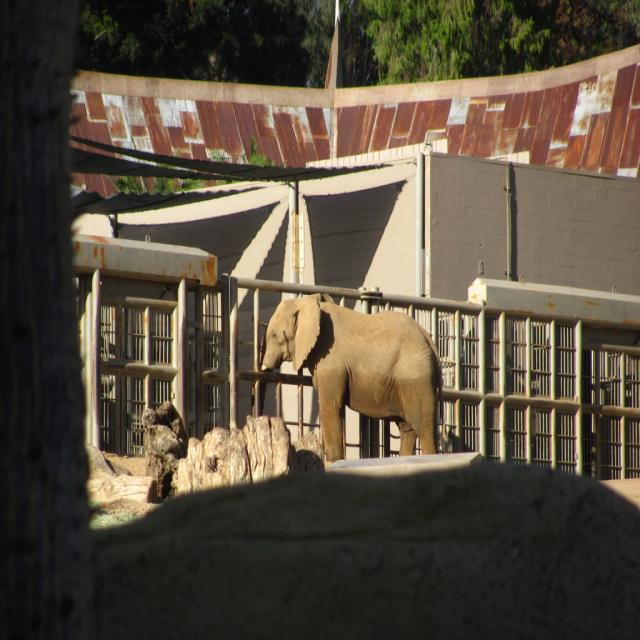elephant: (261, 292, 443, 460)
